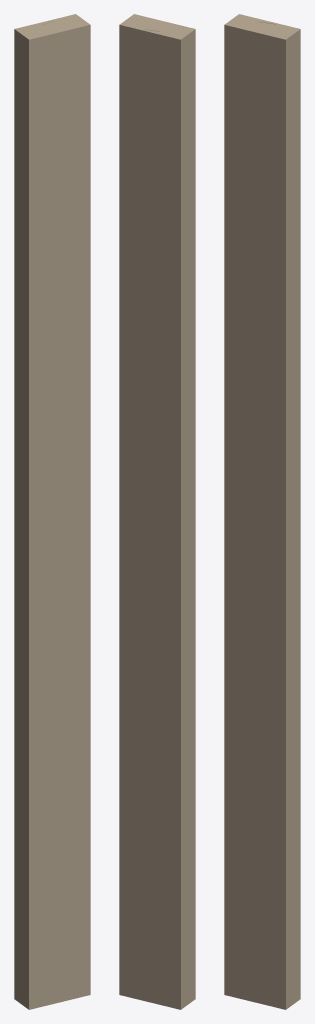
Rendered from T-CAPJIG-RU2.glb.
3 views of the same model, side by side, from view 1: azimuth 30°, elevation 25°; view 2: azimuth 150°, elevation 25°; view 3: azimuth 330°, elevation 25° (orthographic).
Visible parts, largest first — view 1: geometry_0; view 2: geometry_0; view 3: geometry_0.
Part boxes in pixels (bbox=[...]): geometry_0: bbox=[14, 14, 90, 1009]; geometry_0: bbox=[119, 14, 195, 1009]; geometry_0: bbox=[224, 14, 300, 1009].
Bounding box in the file's own units: 130 × 1960 × 53.93.
